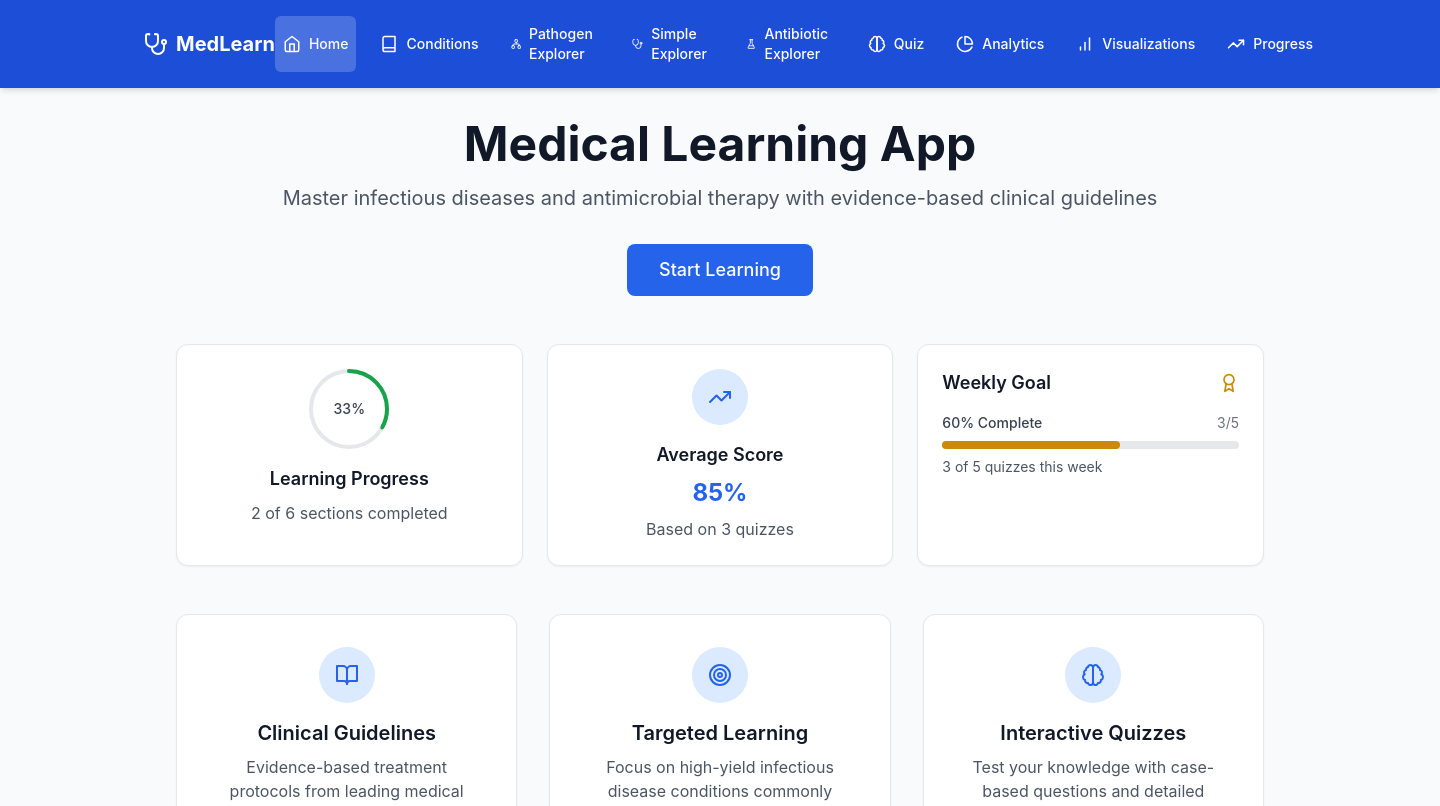
App Component Integration Tests › application loads all required data
Note: Navigate to conditions to check medical conditions data loaded
Step 1. Click the button "Conditions" → (430, 44), box [380,35,478,53]
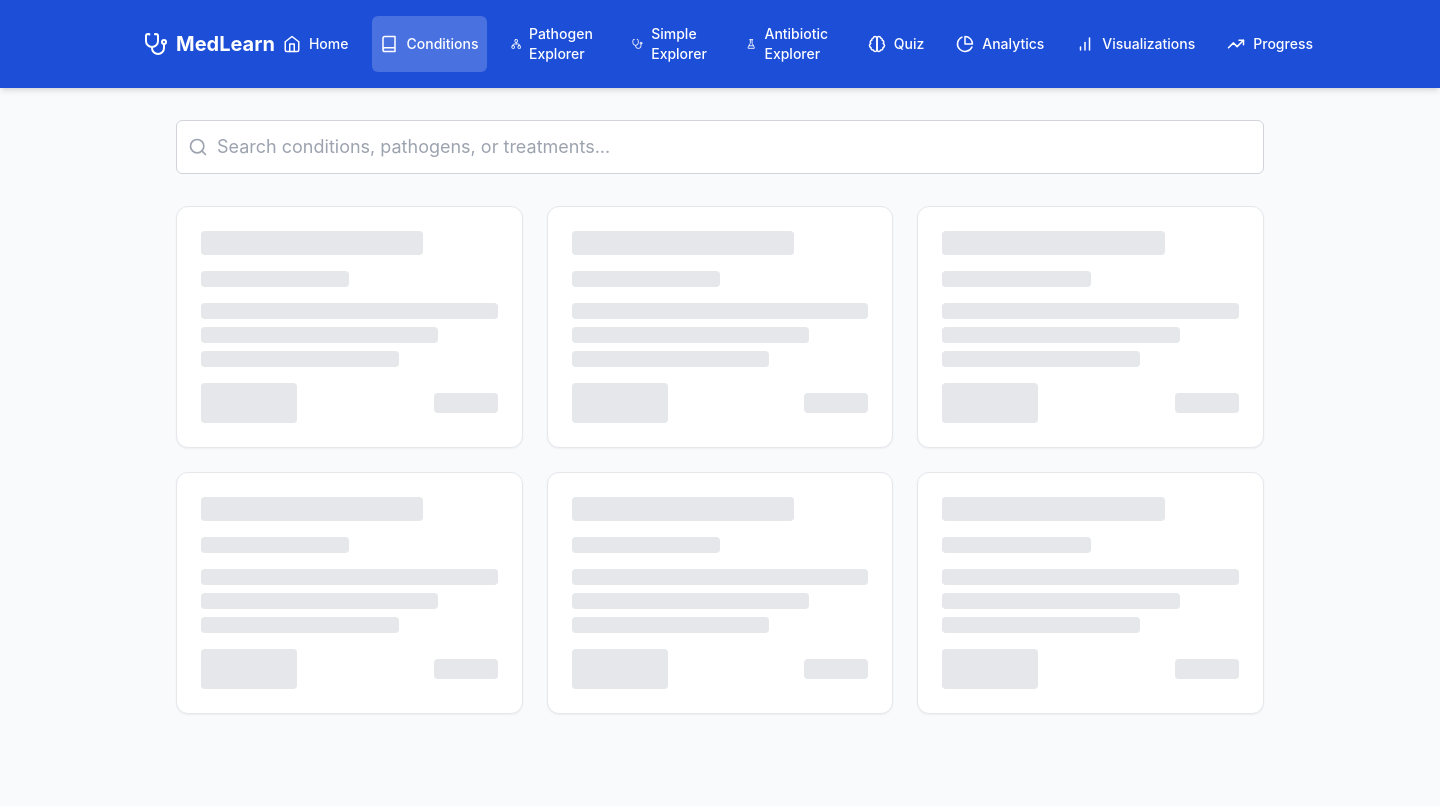
Result: the field with placeholder "Search conditions, pathogens, or treatments..." is shown at [176,120,1264,174]
Note: Navigate to quiz to check quiz questions data loaded
Step 2. Click the button "Quiz" → (896, 44), box [868,35,924,53]
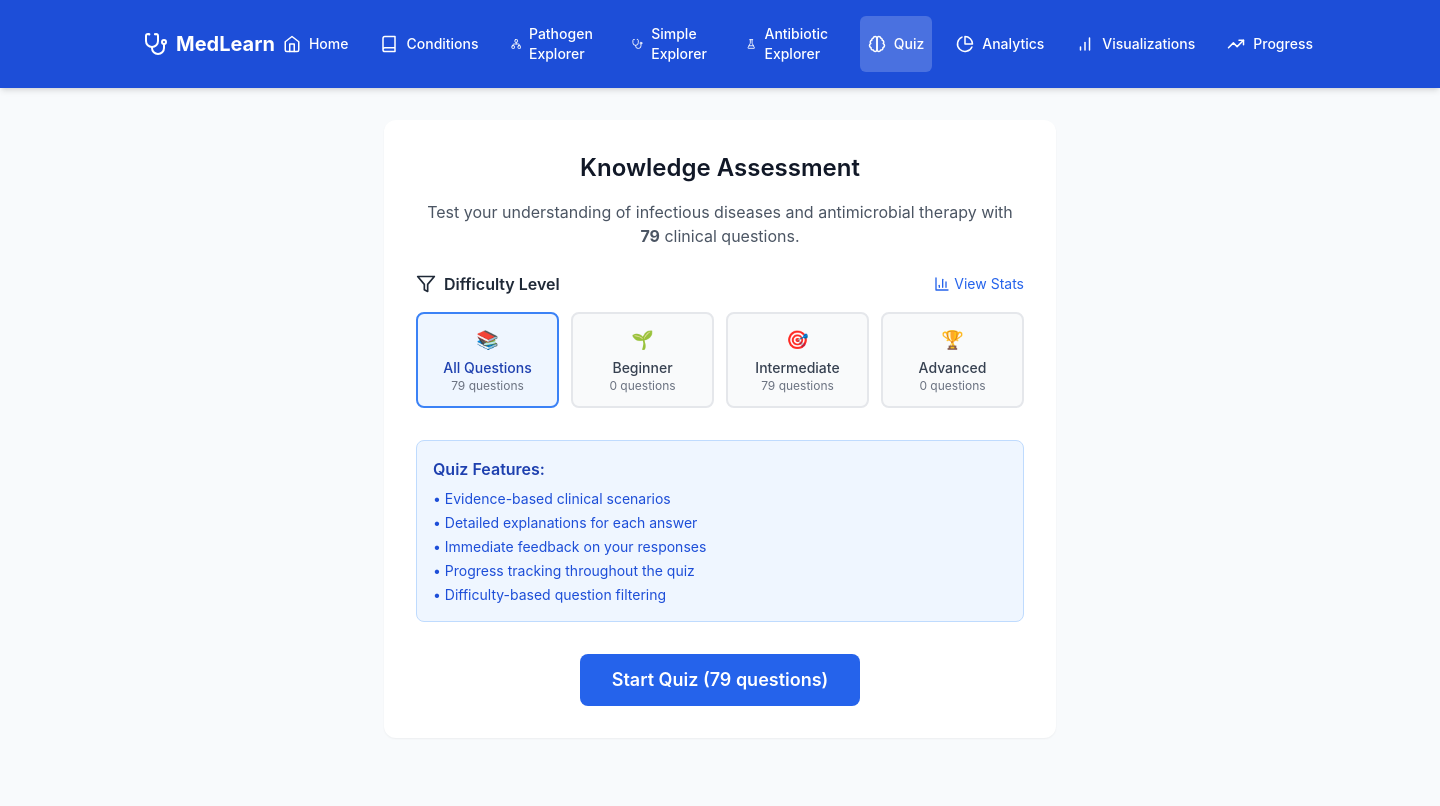
Result: the text "Test your understanding" is shown at [427,202,1013,222]
